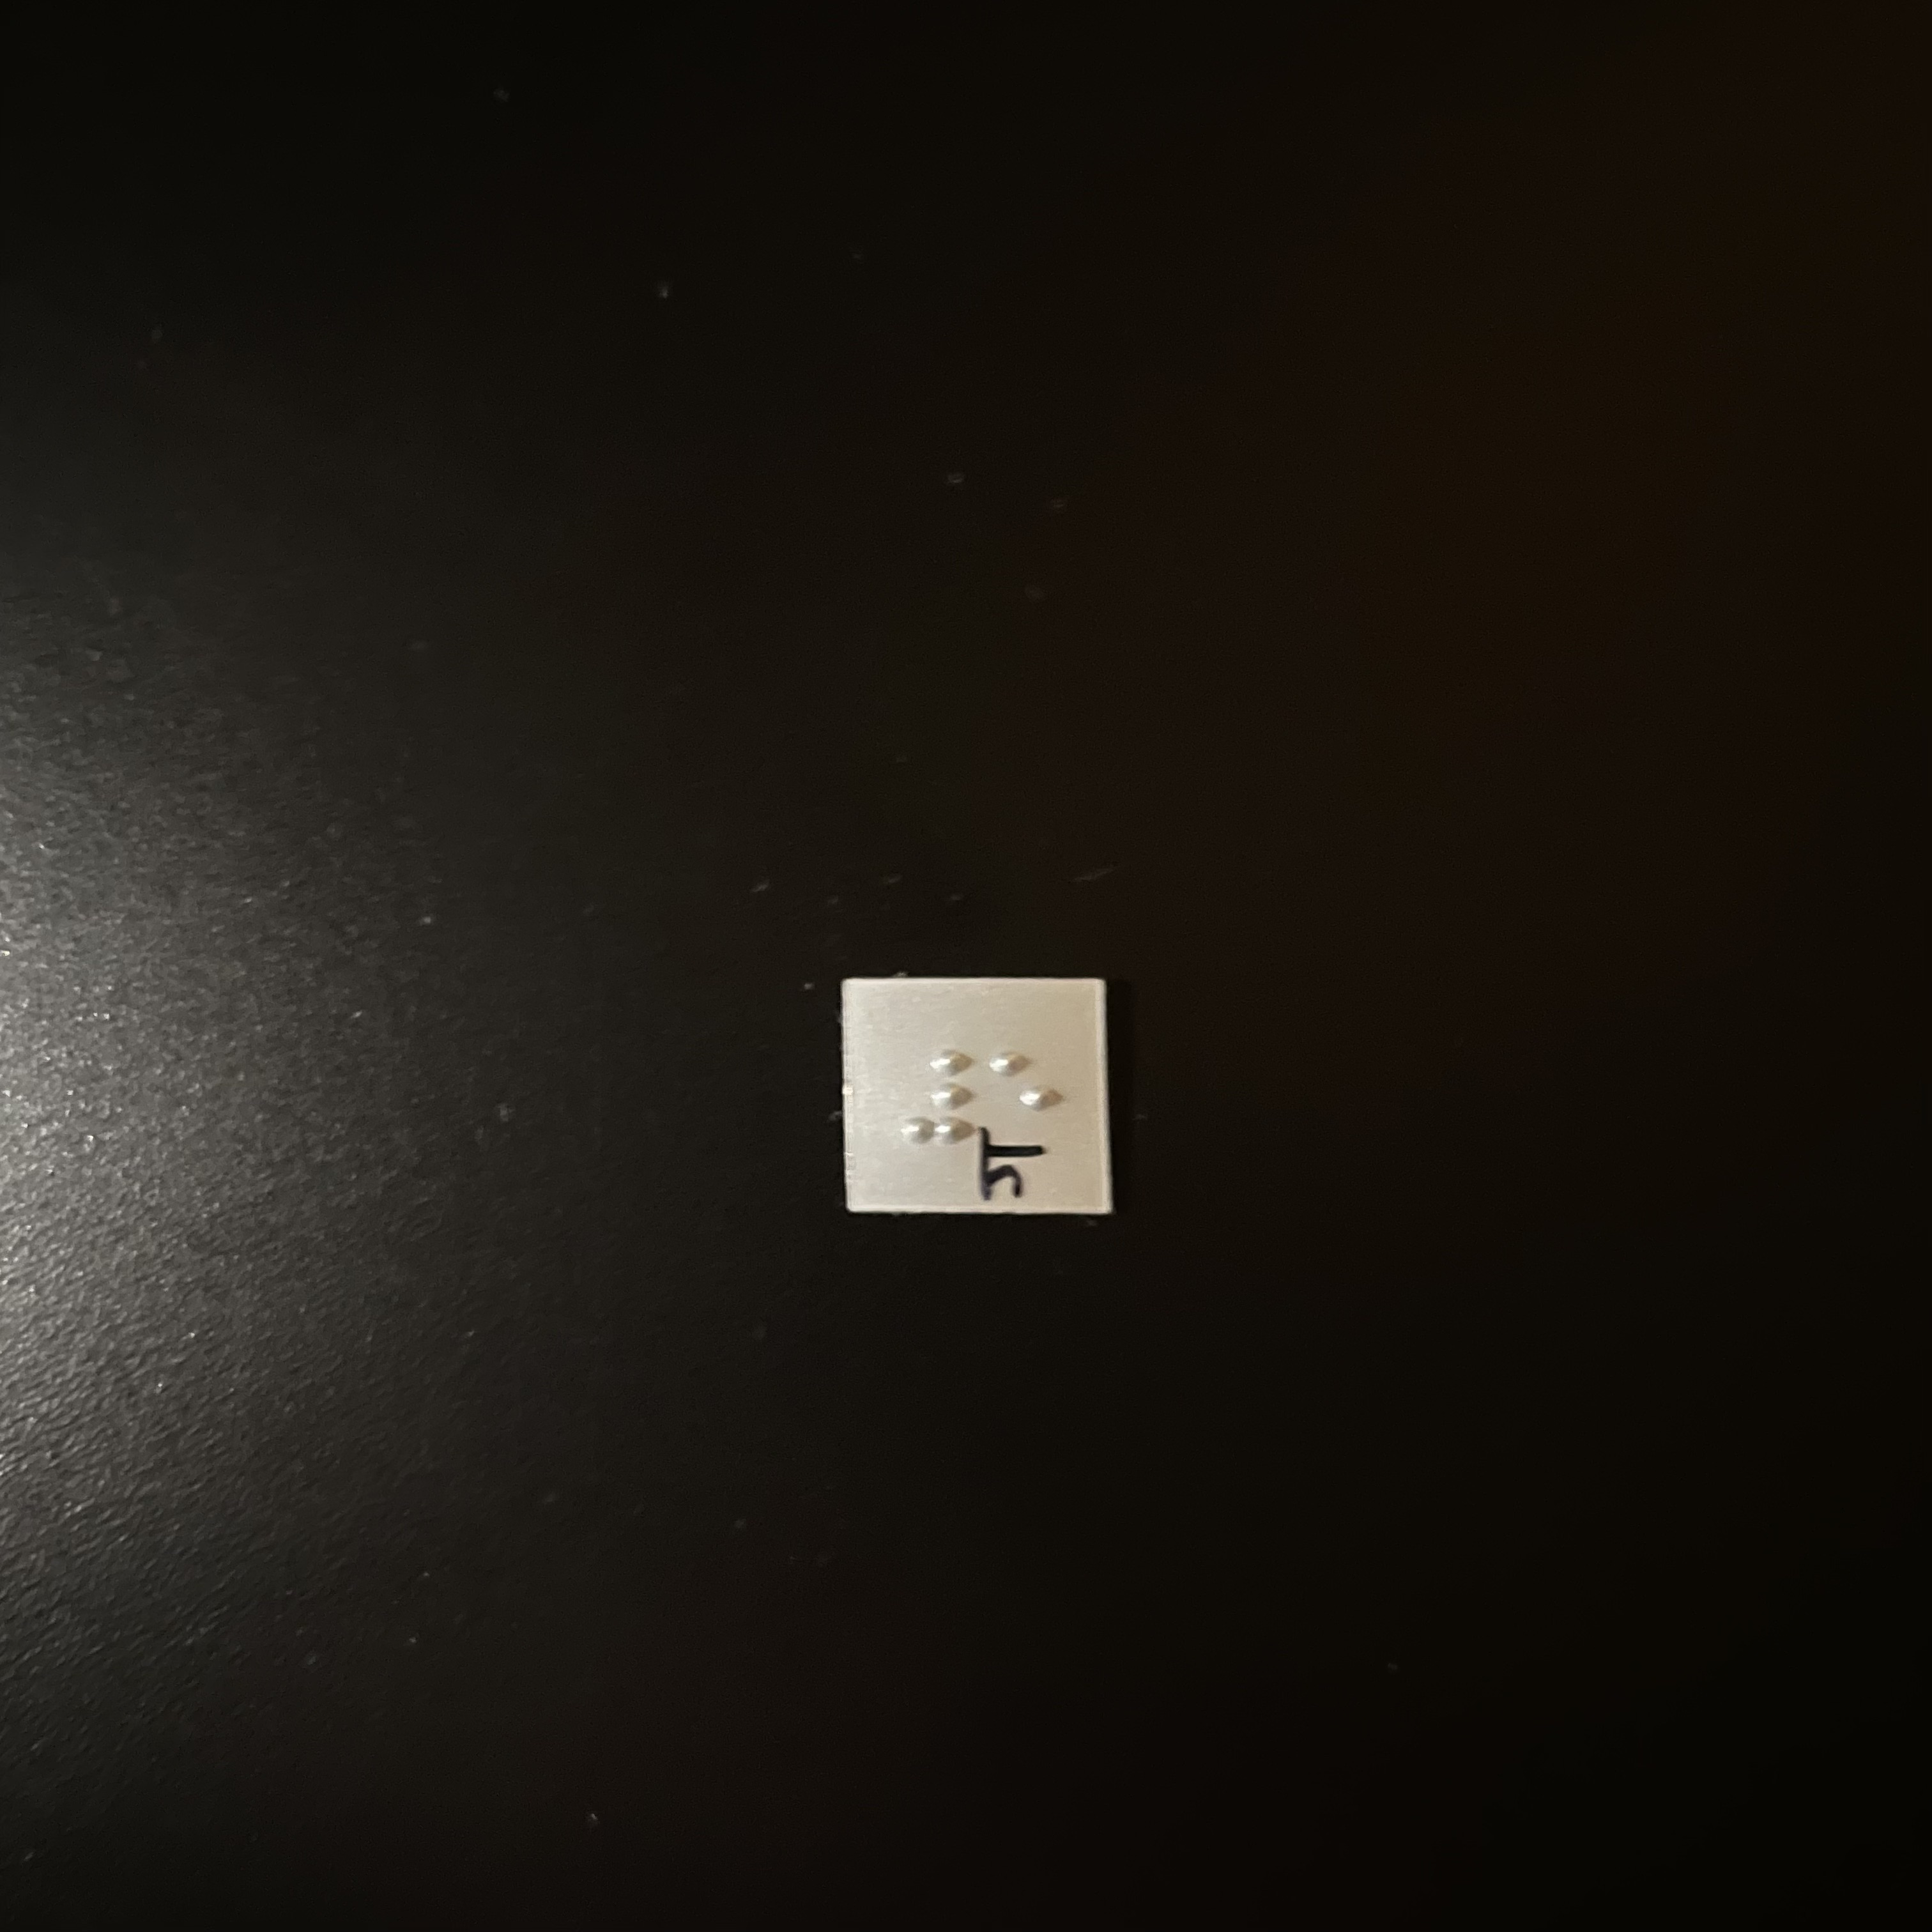#: (897, 1048, 981, 1152)
e: (990, 1048, 1062, 1154)
